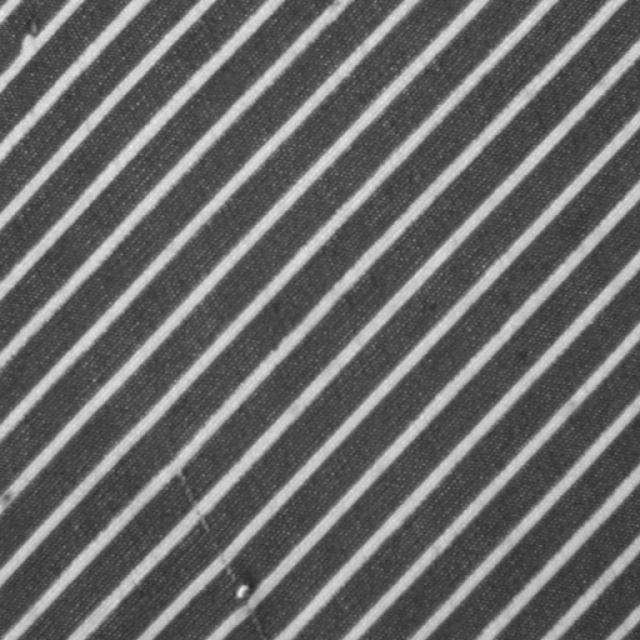Hole-Defect: (158, 438, 273, 639)
